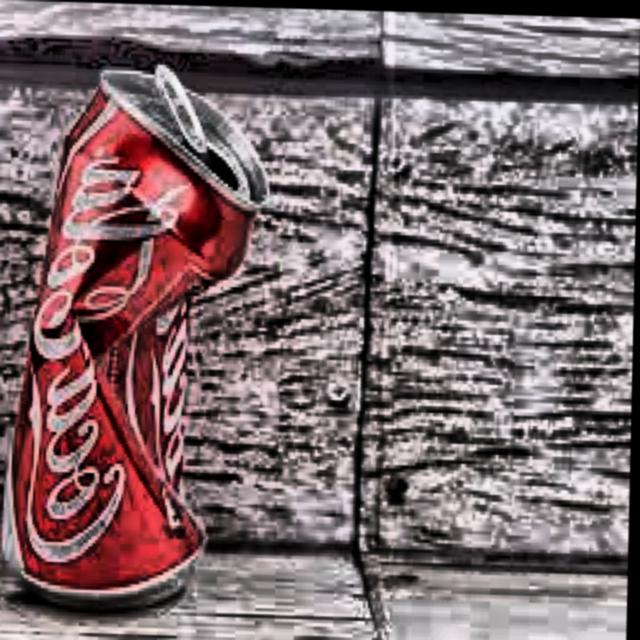can: (0, 53, 268, 622)
